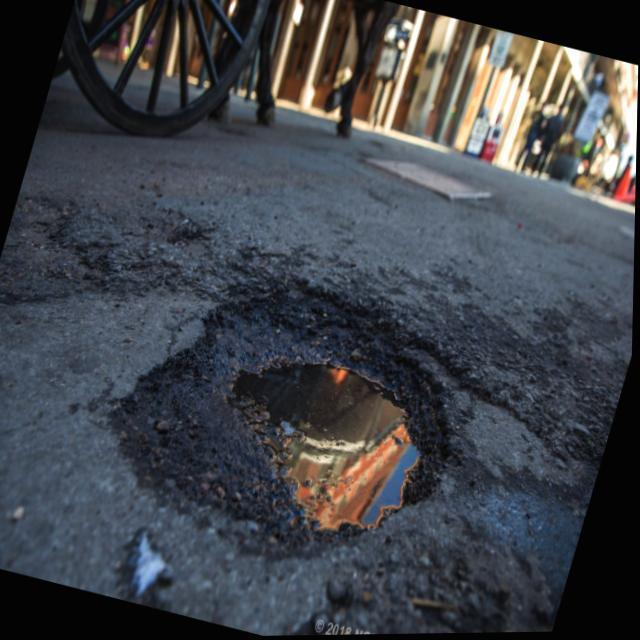Pothole: (101, 260, 474, 580)
